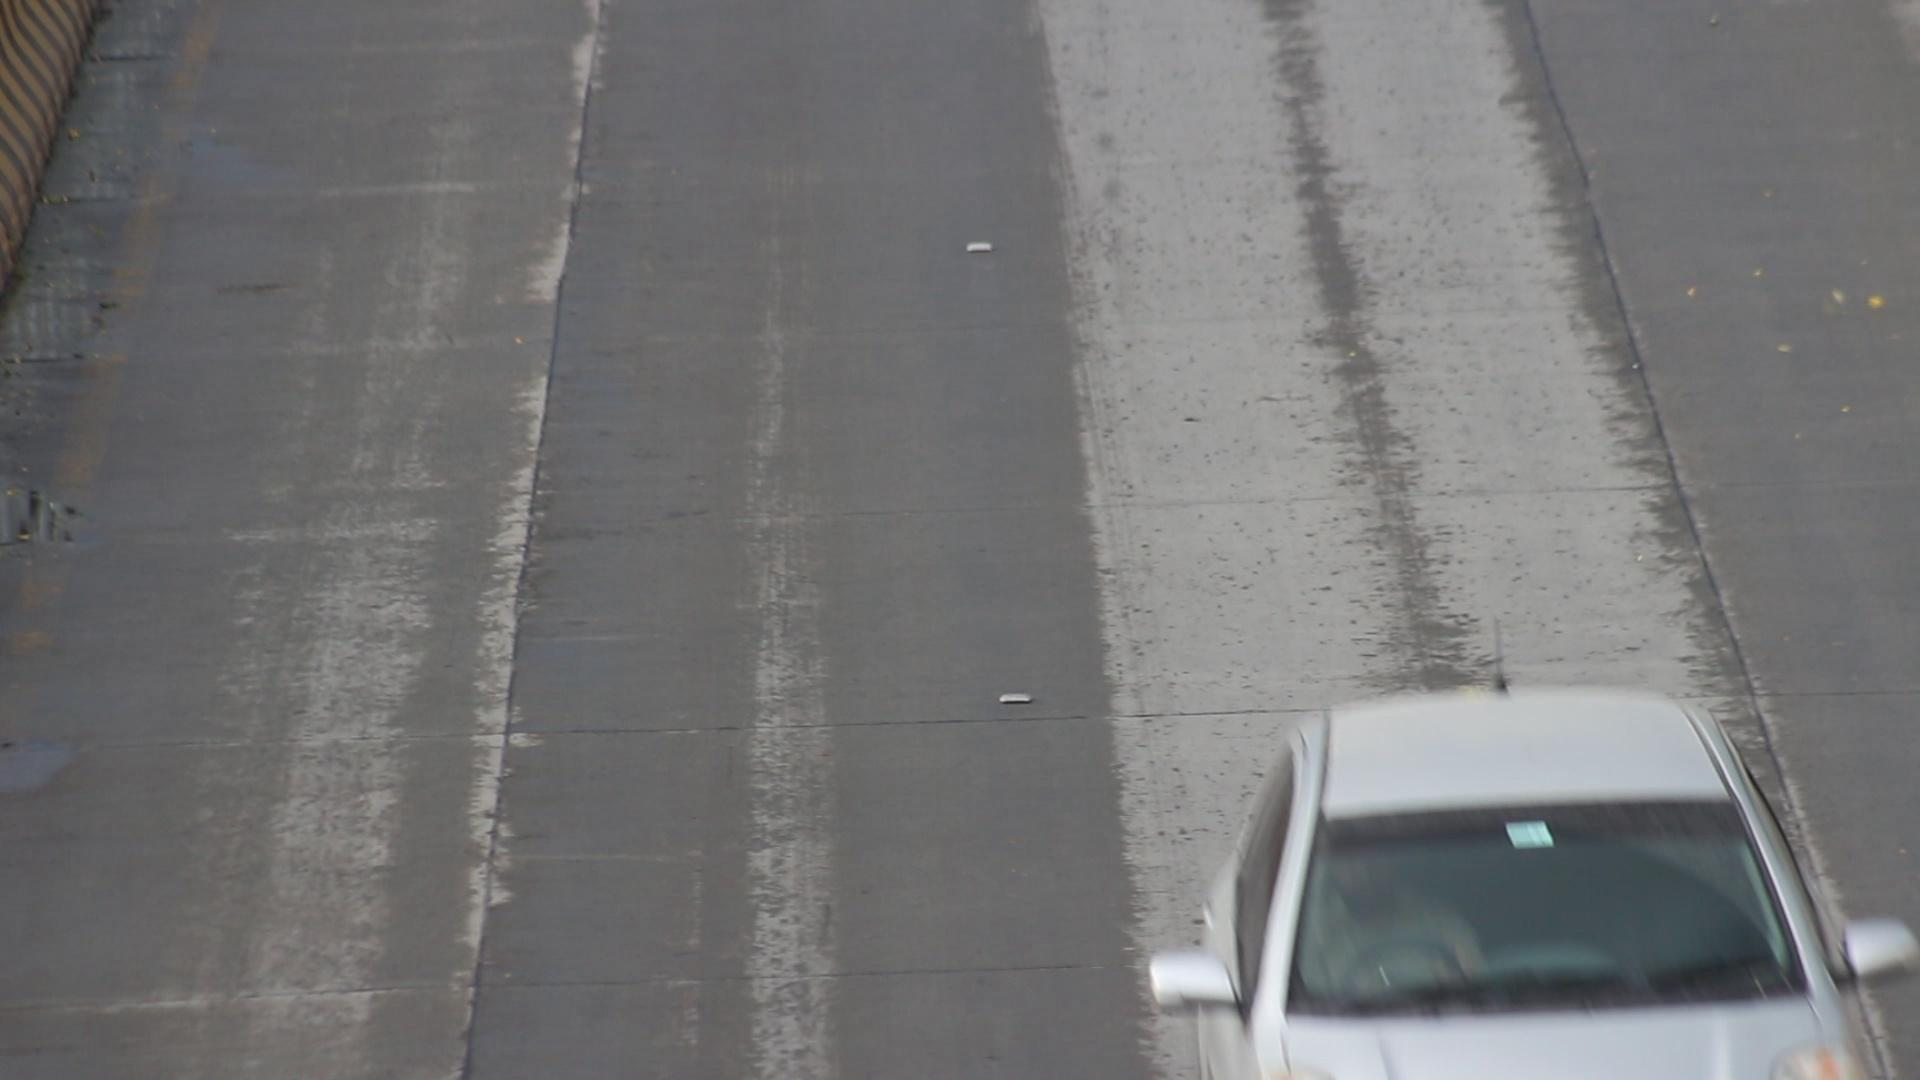windshield: (1276, 790, 1811, 1023)
